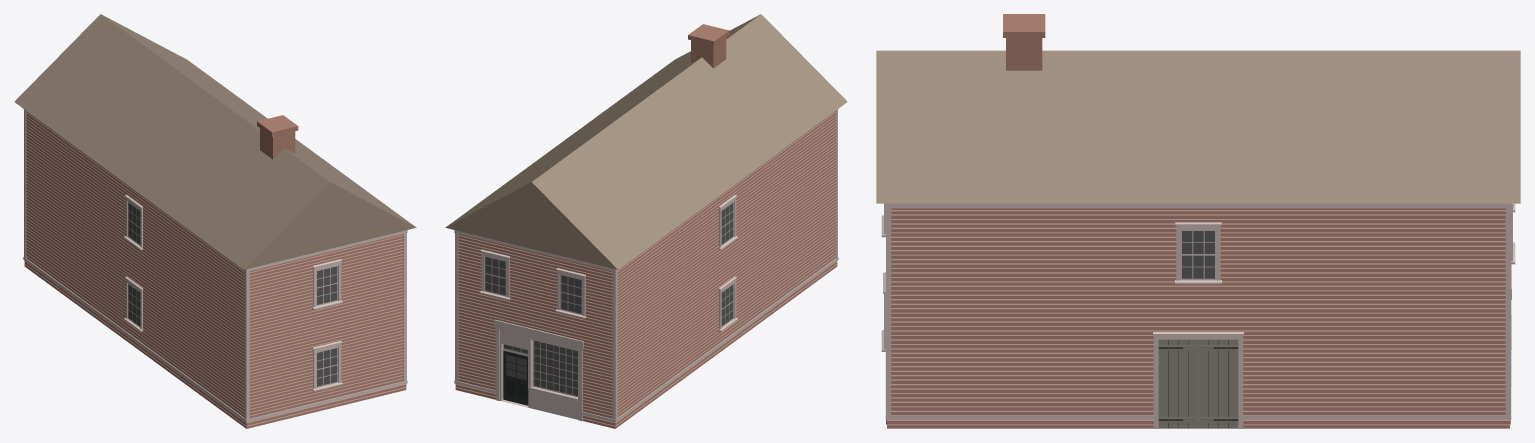
File: recon_1835_core_c3_054__inferred_1835.glb
The picture shows the model from 3 angles, left to right: view 1: azimuth 30°, elevation 25°; view 2: azimuth 150°, elevation 25°; view 3: azimuth 270°, elevation 25°; orthographic projection. The views are drawn at different scales.
Visible parts, largest first — view 1: recon_1835_core_c3_054__inferred_1835; view 2: recon_1835_core_c3_054__inferred_1835; view 3: recon_1835_core_c3_054__inferred_1835.
Boxes of the visible parts, x1,y1,x2,y2 form: recon_1835_core_c3_054__inferred_1835: (14,14,416,428); recon_1835_core_c3_054__inferred_1835: (445,14,847,428); recon_1835_core_c3_054__inferred_1835: (876,14,1520,428).
Bounding box in the file's own units: 6.49 × 8.96 × 14.92.
